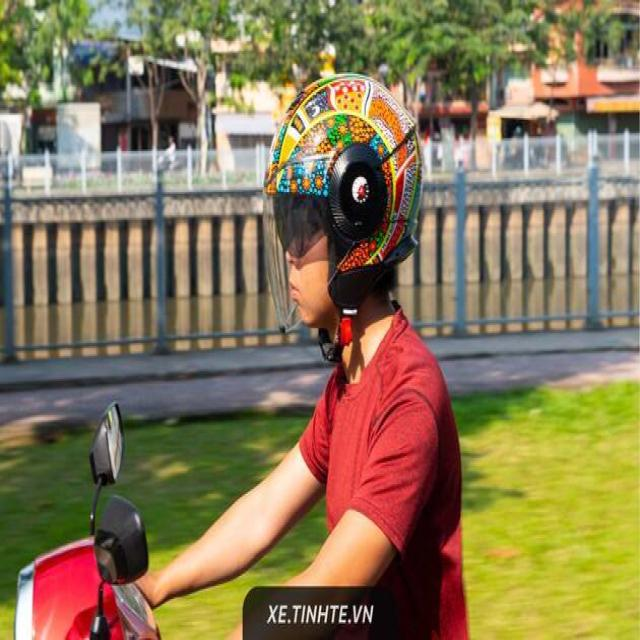helmet: (263, 71, 427, 334)
